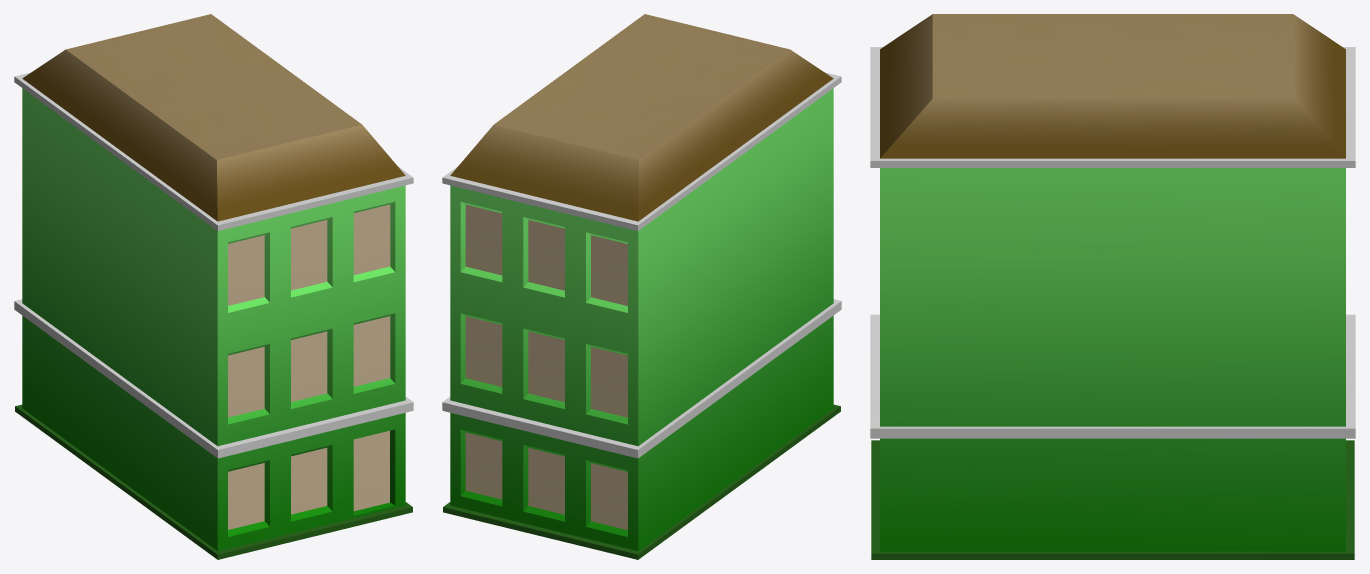
File: Grachtenhuisje_Groen.fbx
3 views of the same model, side by side, from view 1: azimuth 30°, elevation 25°; view 2: azimuth 150°, elevation 25°; view 3: azimuth 270°, elevation 25° (orthographic). The views are drawn at different scales.
Visible parts, largest first — view 1: Cube.001; view 2: Cube.001; view 3: Cube.001.
Part boxes in pixels (left/top/right/bottom): Cube.001: left=14, top=14, right=413, bottom=559; Cube.001: left=442, top=14, right=841, bottom=559; Cube.001: left=870, top=14, right=1355, bottom=559.
Size of the model in its own units: 521 by 952 by 938.
